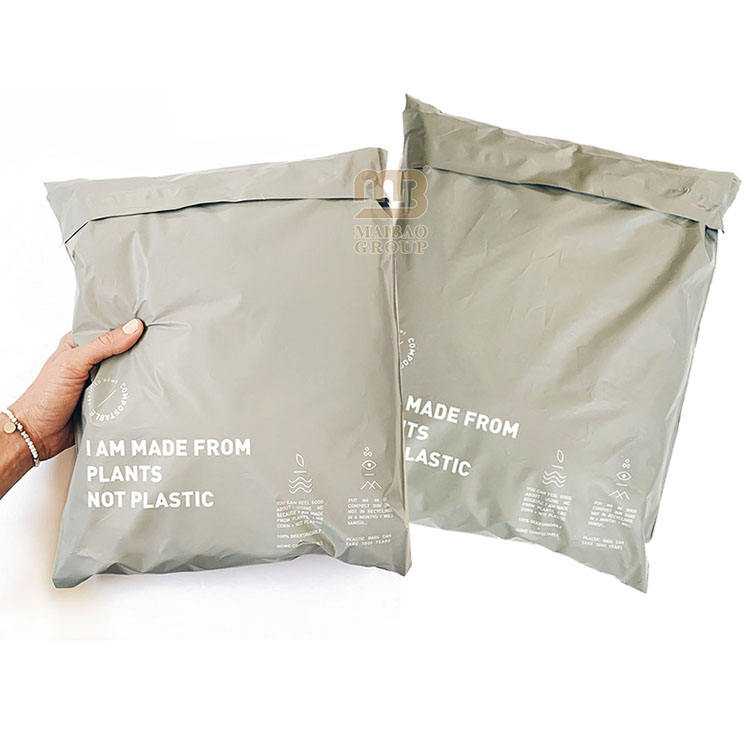塑料袋: (310, 96, 742, 591), (37, 146, 438, 588)
